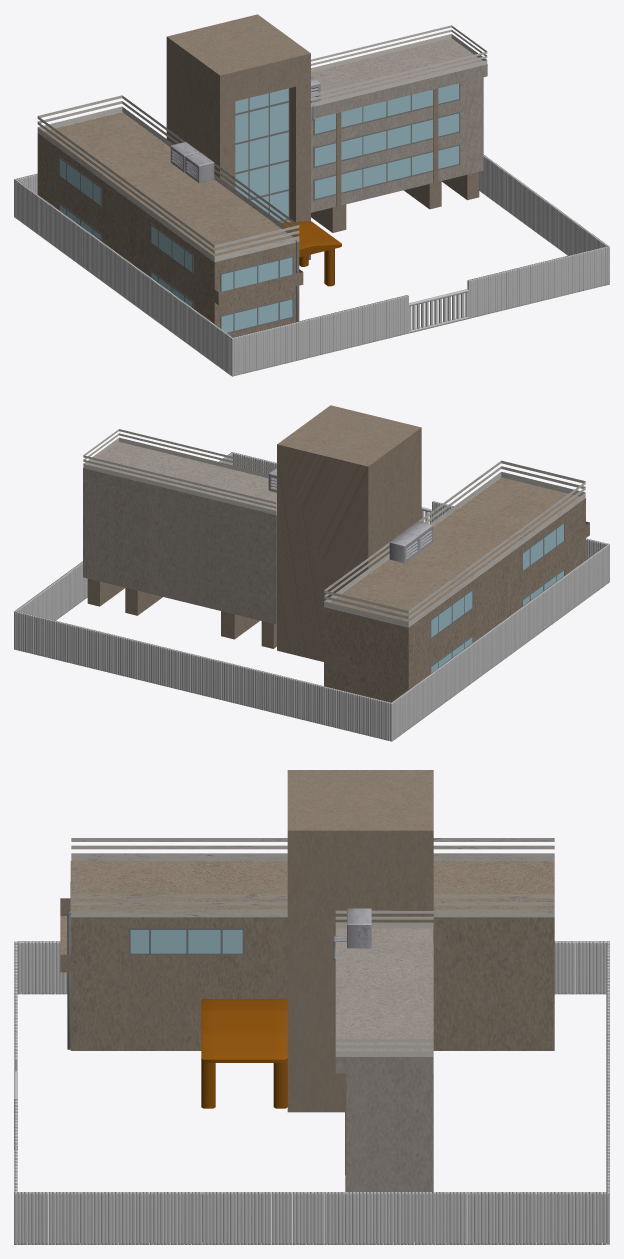
File: School.fbx
3 renders of one model, top to bottom at view 1: azimuth 30°, elevation 25°; view 2: azimuth 150°, elevation 25°; view 3: azimuth 270°, elevation 25°, orthographic. The views are drawn at different scales.
Parts seen in each view (by area): view 1: buildLow.001, buildTall, buildMain.002, buildLow.002, buildTall.010, buildTall.011, buildMain.001, buildMain.009, Veranda, Plane.005, Plane, buildTall.728 (+12 smaller); view 2: buildLow.001, buildTall, buildMain.002, buildMain.001, buildTall.011, buildTall.010, buildLow.002, buildMain.009, Plane.020, buildTall.002, Plane.017, buildTall.004 (+2 smaller); view 3: buildLow.001, buildTall, buildMain.002, buildLow.002, Veranda, buildMain.001, buildTall.010, buildTall.011, Plane.003, buildMain.009, buildMain.003, Plane.011 (+1 smaller).
Part boxes in pixels (x1,y1,x2,y2): buildLow.001: (37,112,299,337); buildTall: (166,14,310,259); buildMain.002: (311,38,487,118); buildLow.002: (37,95,299,261); buildTall.010: (311,106,483,180); buildTall.011: (311,138,483,212); buildMain.001: (311,77,483,147); buildMain.009: (311,25,487,106); Veranda: (282,221,341,286); Plane.005: (221,257,292,291); Plane: (221,299,292,332); buildTall.728: (214,269,303,305); buildLow.001: (324,477,585,702); buildTall: (277,405,421,661); buildMain.002: (83,442,276,527); buildMain.001: (83,480,276,559); buildTall.011: (83,545,276,624); buildTall.010: (83,512,276,591); buildLow.002: (324,460,585,627); buildMain.009: (83,429,276,514); Plane.020: (431,591,472,637); buildTall.002: (389,532,418,563); Plane.017: (523,524,563,570); buildTall.004: (87,578,124,606); buildLow.001: (70,861,554,1050); buildTall: (287,770,433,1112); buildMain.002: (335,928,433,1073); buildLow.002: (71,838,554,917); Veranda: (201,999,287,1108); buildMain.001: (346,944,433,1117); buildTall.010: (346,1118,433,1162); buildTall.011: (346,1162,433,1193); Plane.003: (130,930,242,953); buildMain.009: (335,910,433,1056); buildMain.003: (347,908,371,948); Plane.011: (128,928,244,955).
Size of the model in its own units: 6155 by 3218 by 6152.
